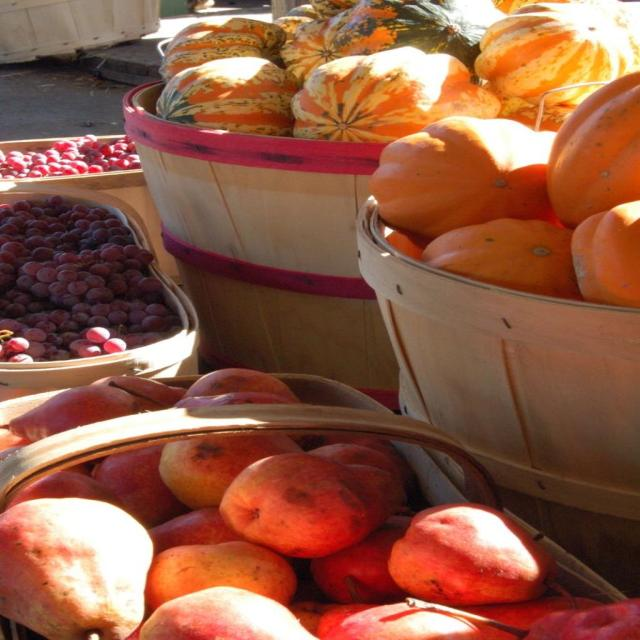Healty Apple: (217, 454, 391, 566)
